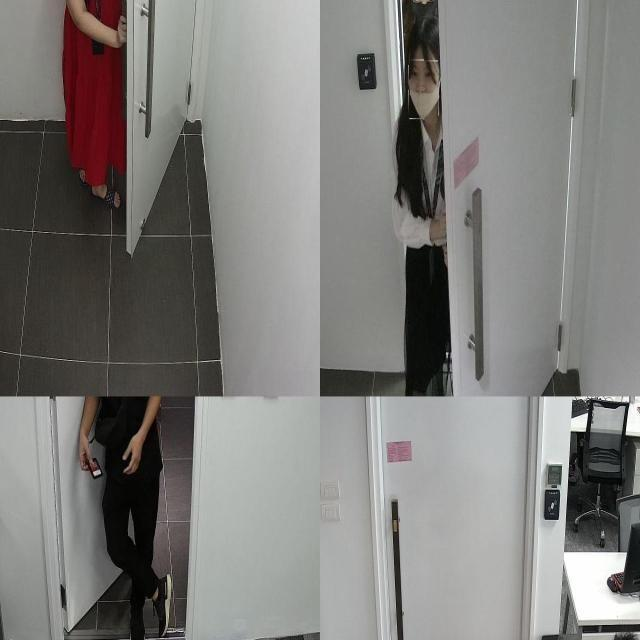hairnet: (408, 60, 439, 120)
